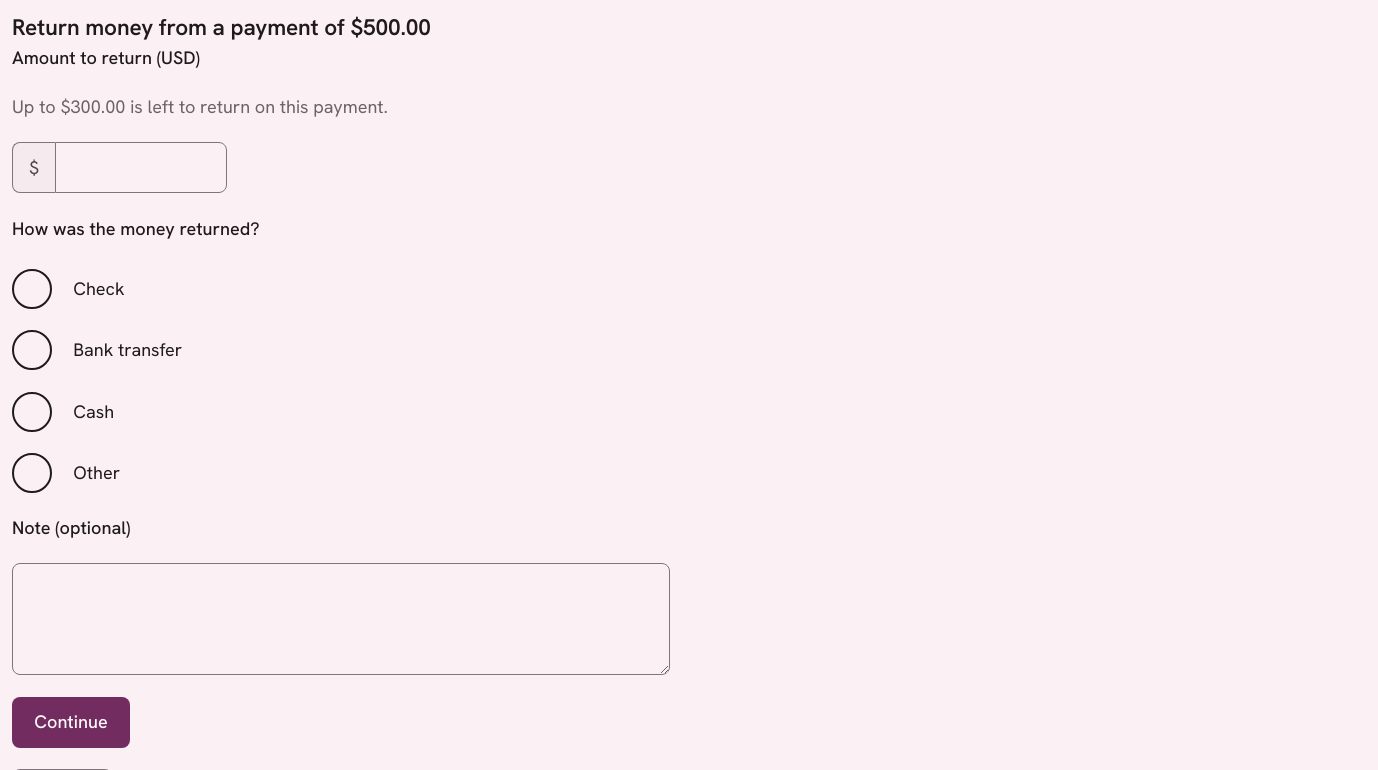
Test: RefundPaymentForm › a Payment recorded by hand › refuses "Other" with no note, on the Note field
The image size is (1378, 770).
Type "10" into the number field labelled "Amount to return (USD)".
click(141, 168); type("10")  # box [55,142,227,193]
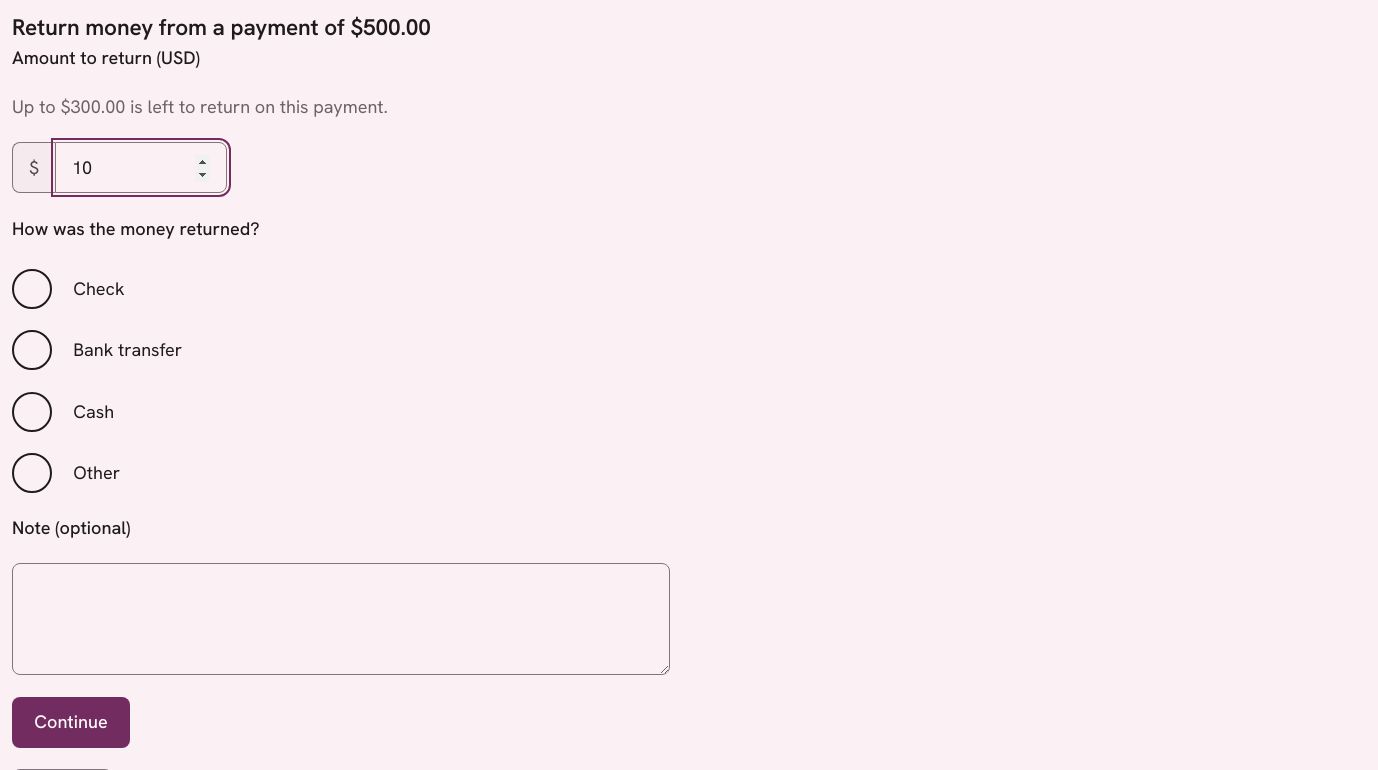
Click the radio button labelled "Other".
click(32, 473)  # box [12,453,52,493]
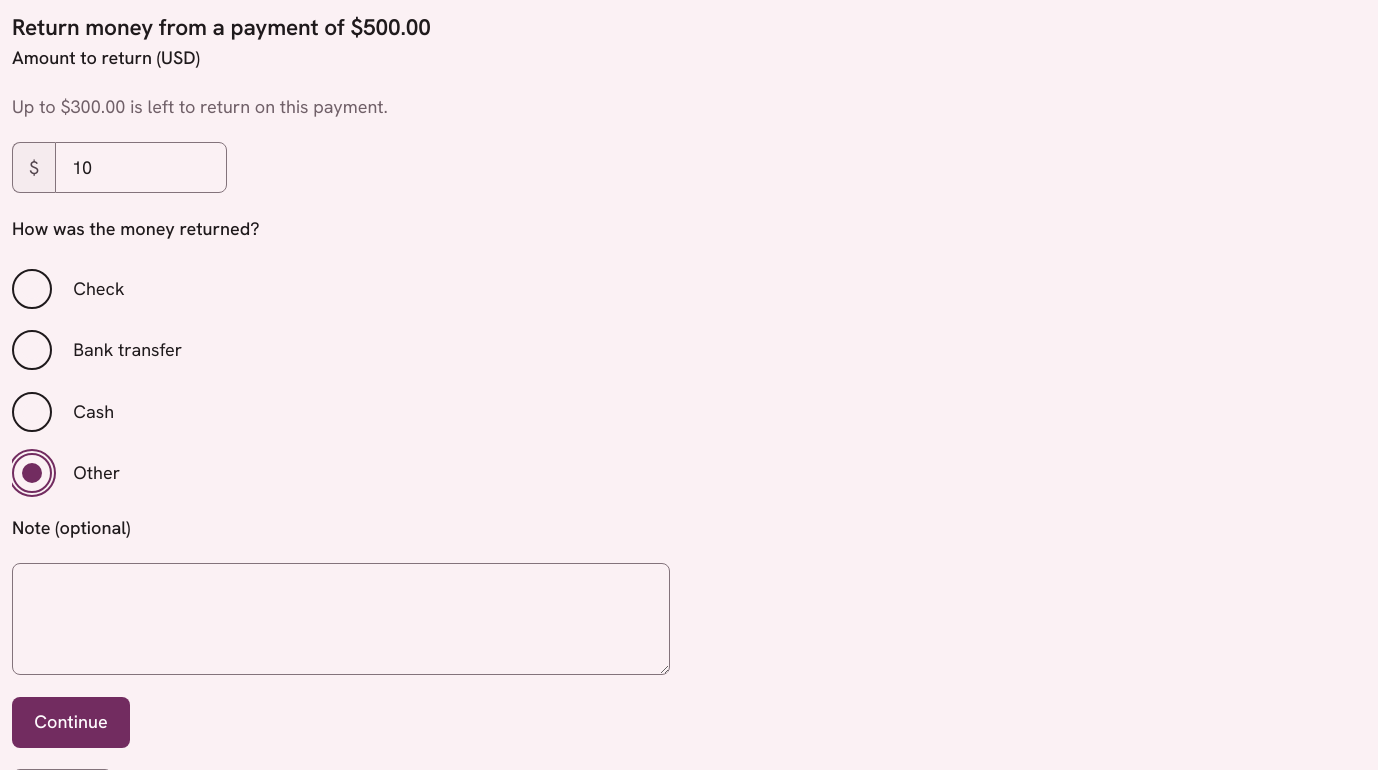
Click the button "Continue".
click(71, 722)  # box [12,697,130,748]
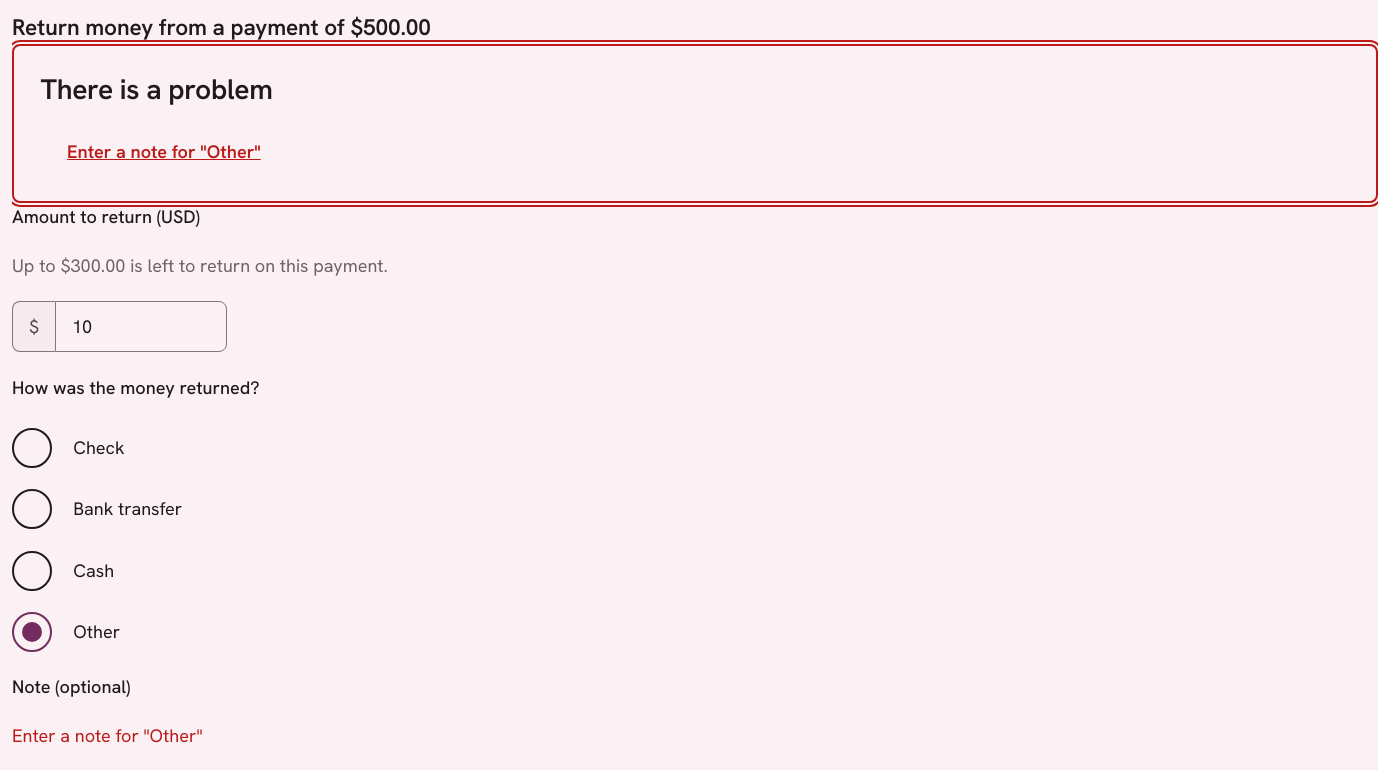
Result: the text "Enter a note for \"Other\"" is shown at [67,138,261,166]
